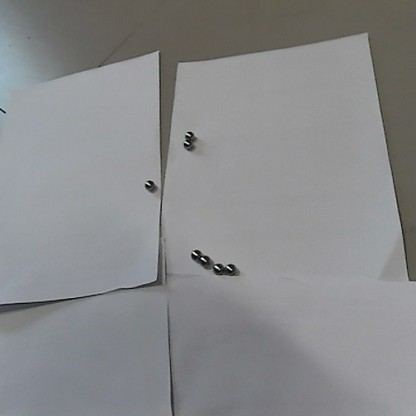ironball: (224, 262, 234, 275), (181, 139, 192, 149), (198, 255, 208, 265), (189, 249, 199, 259), (143, 179, 152, 190), (213, 263, 222, 272), (183, 130, 193, 138)
